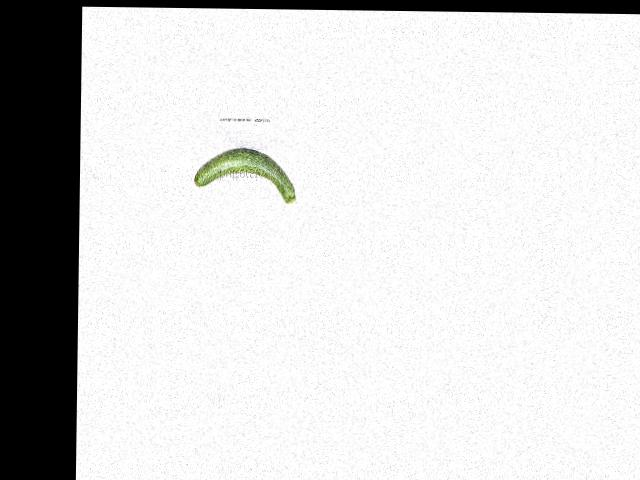cucumber: (194, 147, 296, 204)
